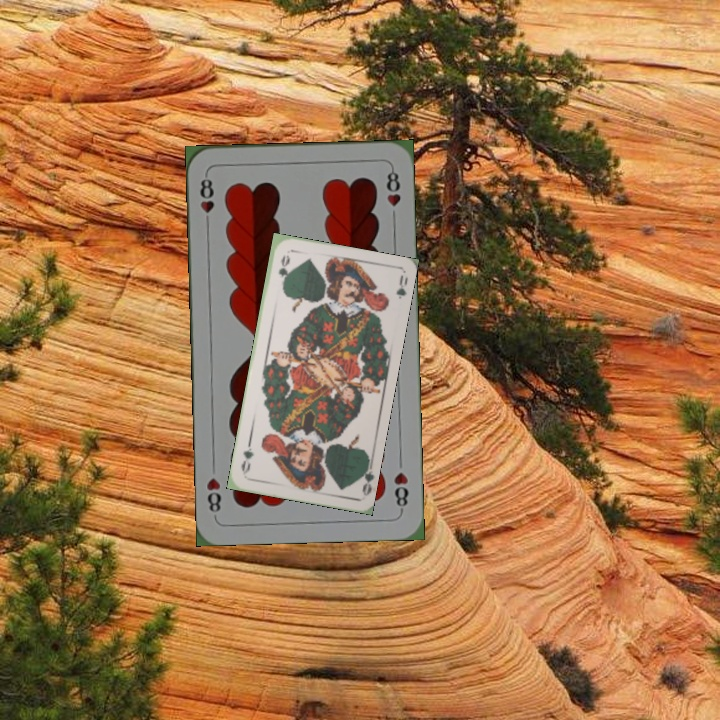GO: (354, 457, 375, 498), (274, 251, 292, 290)
H8: (196, 170, 217, 229), (389, 468, 411, 514)
